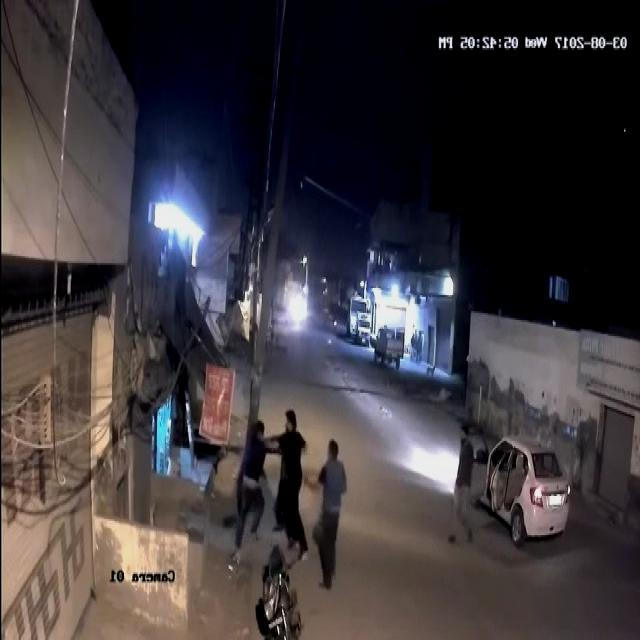fight: (238, 405, 308, 576)
